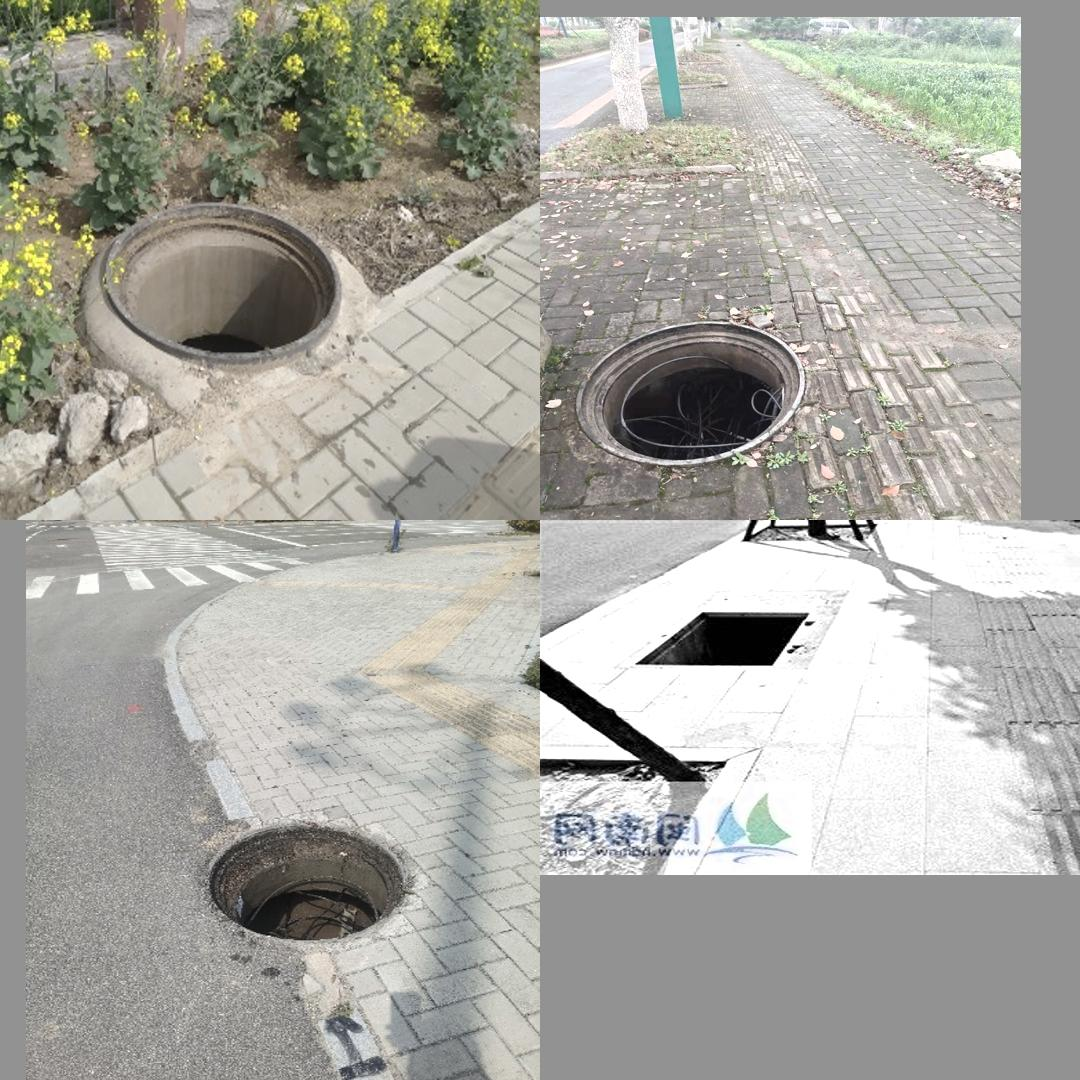lose: (99, 200, 341, 368), (573, 320, 804, 470), (202, 820, 410, 942), (621, 589, 838, 678)
